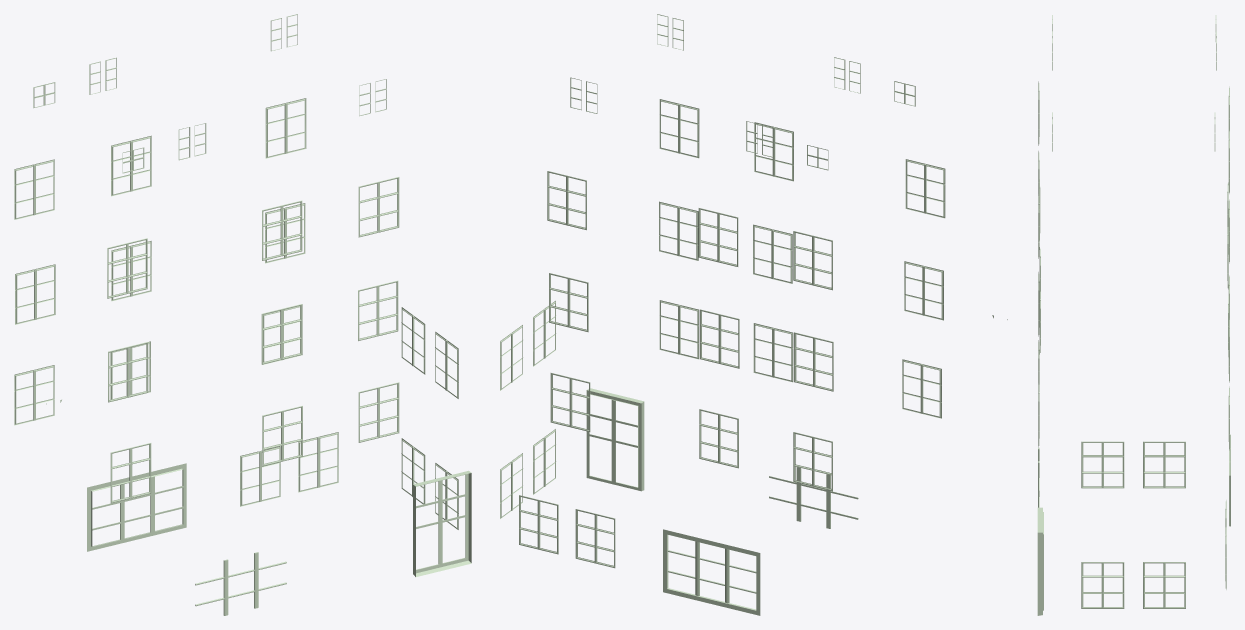
File: FairyTale156.gltf
3 renders of one model, left to right at view 1: azimuth 30°, elevation 25°; view 2: azimuth 150°, elevation 25°; view 3: azimuth 270°, elevation 25°, orthographic. The views are drawn at different scales.
Parts seen in each view (by area): view 1: HouseMD02_Mullions_Wood; view 2: HouseMD02_Mullions_Wood; view 3: HouseMD02_Mullions_Wood.
Part boxes in pixels (bbox=[...]): HouseMD02_Mullions_Wood: bbox=[14, 14, 471, 615]; HouseMD02_Mullions_Wood: bbox=[500, 14, 1007, 615]; HouseMD02_Mullions_Wood: bbox=[1037, 15, 1230, 615].
Size of the model in its own units: 9.83 by 10.68 by 4.12.
